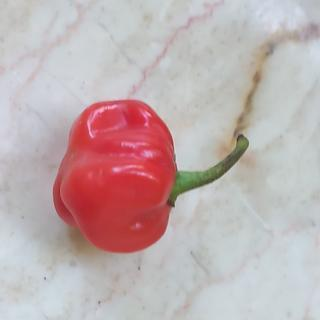Grade-B: (48, 92, 178, 254)
